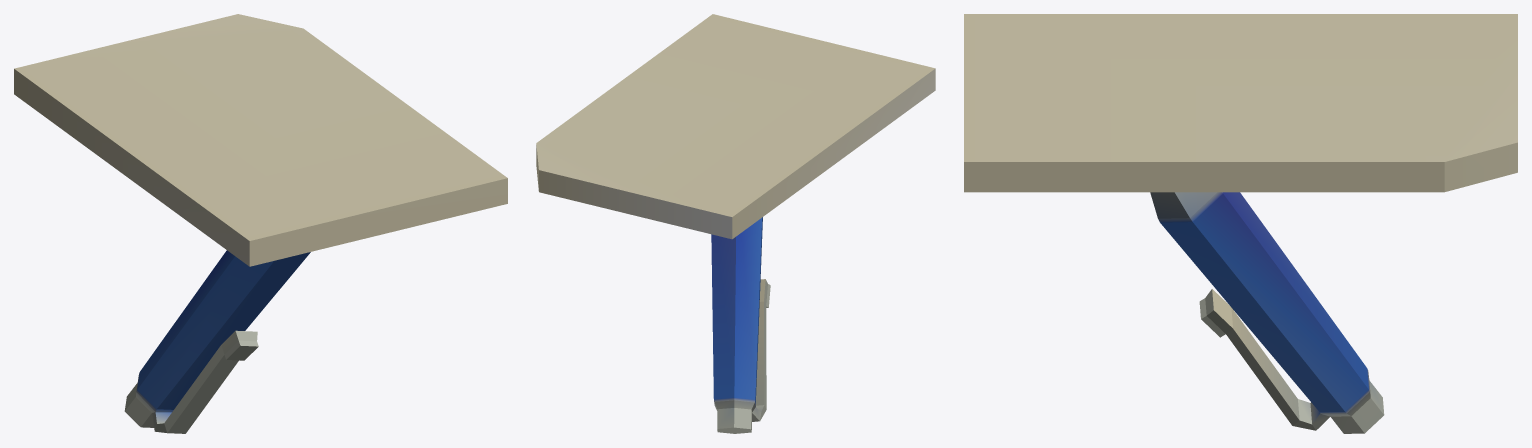
File: Autograph.fbx
3 views of the same model, side by side, from view 1: azimuth 30°, elevation 25°; view 2: azimuth 150°, elevation 25°; view 3: azimuth 270°, elevation 25° (orthographic). The views are drawn at different scales.
Visible parts, largest first — view 1: Cylinder; view 2: Cylinder; view 3: Cylinder.
Part boxes in pixels (x1,y1,x2,y2): Cylinder: (14,14,507,433); Cylinder: (536,14,935,433); Cylinder: (964,14,1517,433).
Bounding box in the file's own units: 82.94 × 99.04 × 131.
